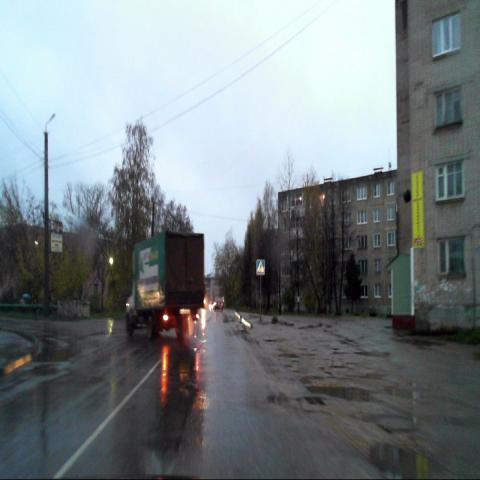5_19_1: (256, 259, 264, 275)
